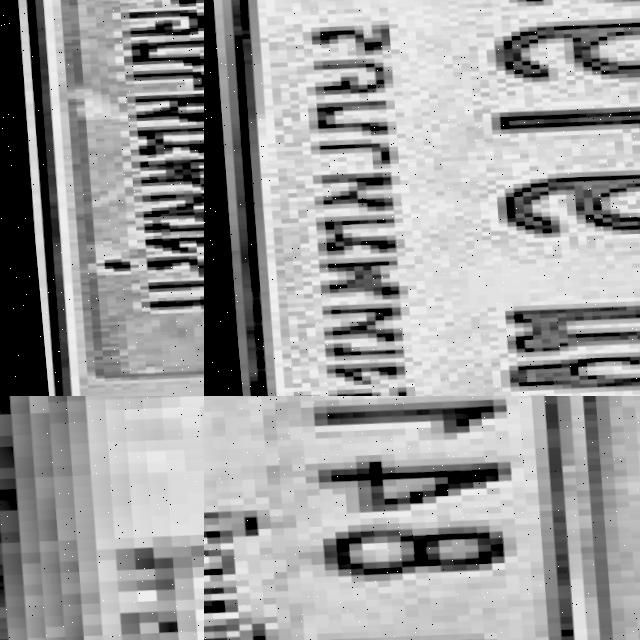license-plate: (213, 0, 640, 396), (204, 396, 640, 640), (3, 0, 204, 396), (0, 396, 204, 640)
